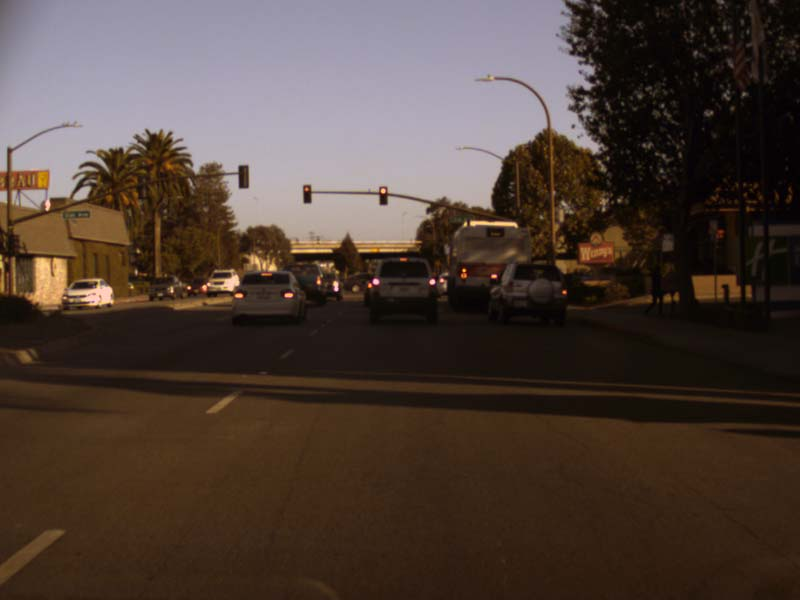Red: (378, 187, 387, 206), (302, 185, 311, 203)
